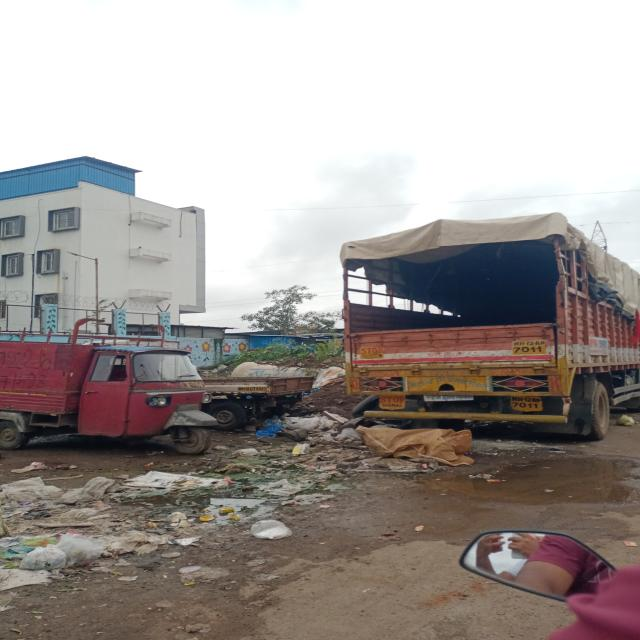garbage: (0, 472, 310, 566), (242, 412, 482, 478)
